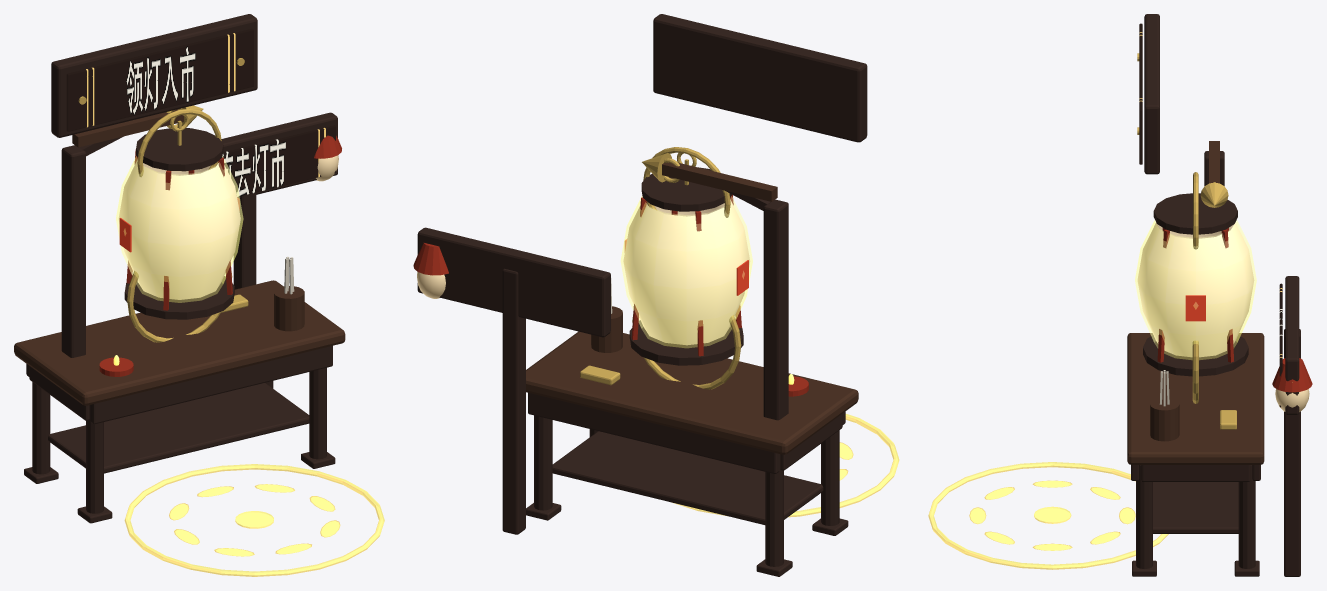
Rendered from s1-entrance.glb.
3 renders of one model, left to right at view 1: azimuth 30°, elevation 25°; view 2: azimuth 150°, elevation 25°; view 3: azimuth 270°, elevation 25°, orthographic. The views are drawn at different scales.
Parts seen in each view (by area): view 1: S1_Table_Top, S1_HeroLantern_OutlineMesh, S1_HeroLantern_PaperMesh, S1_Sign_MainFace, S1_Table_LowerShelf, S1_Sign_MainFrame, S1_Table_Upright, S1_Table_FrontApron, S1_Sign_WayFace, S1_P01_MarkerRing, S1_HeroLantern_Crown, S1_HeroLantern_Skirt (+12 smaller); view 2: S1_Table_Top, S1_Sign_MainFrame, S1_HeroLantern_OutlineMesh, S1_HeroLantern_PaperMesh, S1_Table_LowerShelf, S1_Sign_WayFrame, S1_Sign_WayPost, S1_Table_Upright, S1_Table_BackApron, S1_HeroLantern_Skirt, S1_HeroLantern_Crown, S1_Table_Arm (+9 smaller); view 3: S1_Table_Top, S1_HeroLantern_OutlineMesh, S1_HeroLantern_PaperMesh, S1_Table_LowerShelf, S1_Sign_WayPost, S1_P01_MarkerRing, S1_Sign_MainFrame, S1_HeroLantern_Crown, S1_HeroLantern_Skirt, S1_Table_RightApron, S1_Sign_WayFrame, S1_Table_Leg_1_1 (+8 smaller).
Boxes of the visible parts, bbox=[...] form: S1_Table_Top: bbox=[14, 280, 345, 405]; S1_HeroLantern_OutlineMesh: bbox=[116, 156, 243, 302]; S1_HeroLantern_PaperMesh: bbox=[118, 159, 240, 299]; S1_Sign_MainFace: bbox=[66, 28, 253, 131]; S1_Table_LowerShelf: bbox=[48, 383, 309, 473]; S1_Sign_MainFrame: bbox=[51, 14, 257, 137]; S1_Table_Upright: bbox=[61, 145, 85, 357]; S1_Table_FrontApron: bbox=[90, 345, 332, 424]; S1_Sign_WayFace: bbox=[222, 125, 335, 196]; S1_P01_MarkerRing: bbox=[124, 464, 384, 576]; S1_HeroLantern_Crown: bbox=[136, 128, 223, 171]; S1_HeroLantern_Skirt: bbox=[124, 276, 234, 319]; S1_Table_Top: bbox=[526, 331, 858, 454]; S1_Sign_MainFrame: bbox=[653, 14, 867, 142]; S1_HeroLantern_OutlineMesh: bbox=[620, 196, 752, 347]; S1_HeroLantern_PaperMesh: bbox=[623, 199, 750, 345]; S1_Table_LowerShelf: bbox=[552, 431, 823, 524]; S1_Sign_WayFrame: bbox=[417, 227, 610, 337]; S1_Sign_WayPost: bbox=[502, 268, 525, 534]; S1_Table_Upright: bbox=[763, 199, 788, 420]; S1_Table_BackApron: bbox=[528, 392, 779, 473]; S1_HeroLantern_Skirt: bbox=[629, 320, 743, 365]; S1_HeroLantern_Crown: bbox=[641, 167, 731, 211]; S1_Table_Arm: bbox=[662, 162, 777, 201]; S1_Table_Top: bbox=[1127, 333, 1264, 464]; S1_HeroLantern_OutlineMesh: bbox=[1135, 220, 1256, 359]; S1_HeroLantern_PaperMesh: bbox=[1137, 222, 1254, 357]; S1_Table_LowerShelf: bbox=[1153, 482, 1238, 533]; S1_Sign_WayPost: bbox=[1284, 329, 1300, 576]; S1_P01_MarkerRing: bbox=[928, 462, 1168, 569]; S1_Sign_MainFrame: bbox=[1144, 14, 1159, 174]; S1_HeroLantern_Crown: bbox=[1153, 193, 1237, 234]; S1_HeroLantern_Skirt: bbox=[1143, 335, 1248, 376]; S1_Table_RightApron: bbox=[1141, 465, 1250, 481]; S1_Sign_WayFrame: bbox=[1285, 276, 1299, 414]; S1_Table_Leg_1_1: bbox=[1238, 465, 1255, 568].
Bounding box in the file's own units: 2.54 × 3.1 × 2.47.
Materials: 14 (2 with a texture image).
